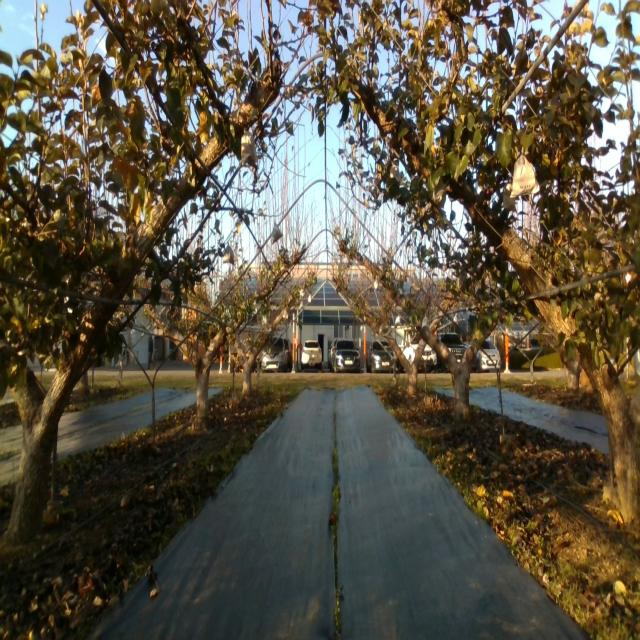pearbags: (510, 149, 540, 198), (241, 129, 258, 164), (502, 184, 516, 213), (223, 244, 236, 264), (272, 222, 282, 244)
